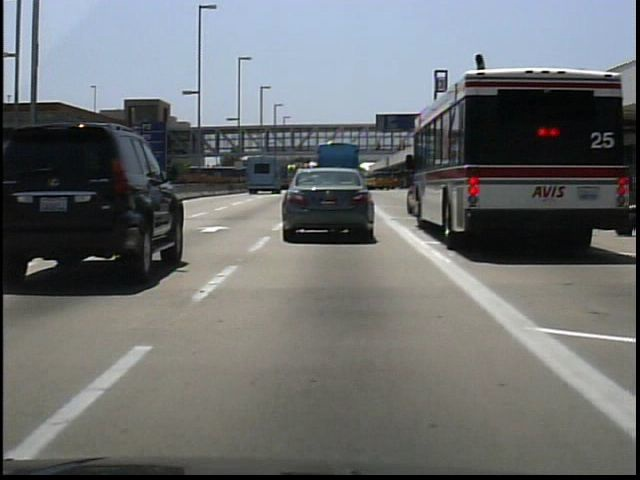person: (399, 136, 412, 158), (374, 137, 387, 157)
